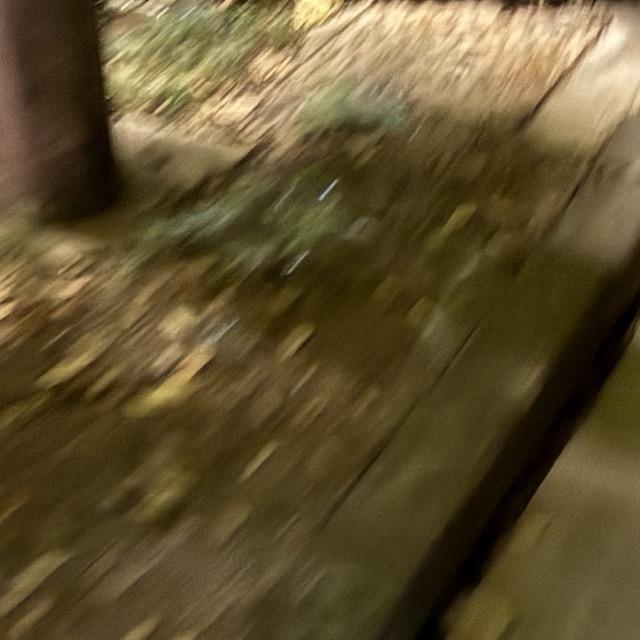curb: (247, 114, 639, 639)
